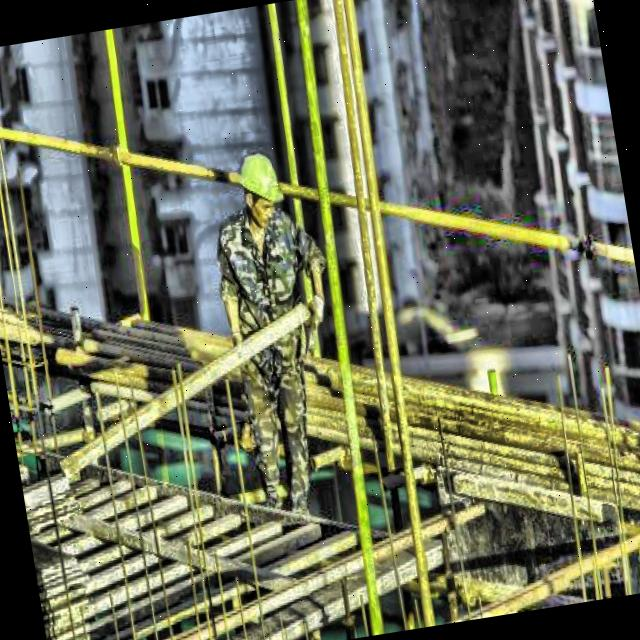helmet: (232, 146, 288, 234)
